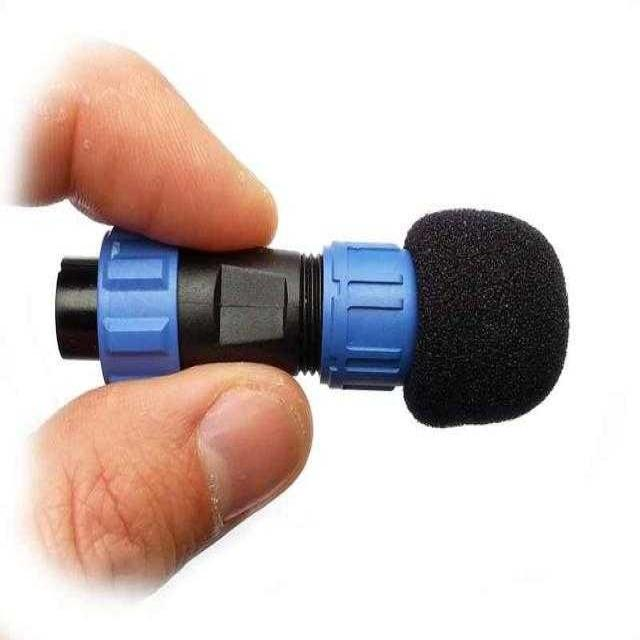microphone: (61, 214, 565, 418)
